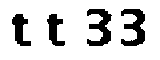3: (114, 4, 147, 49), (80, 5, 110, 49)
t: (8, 10, 35, 50), (43, 11, 67, 52)
